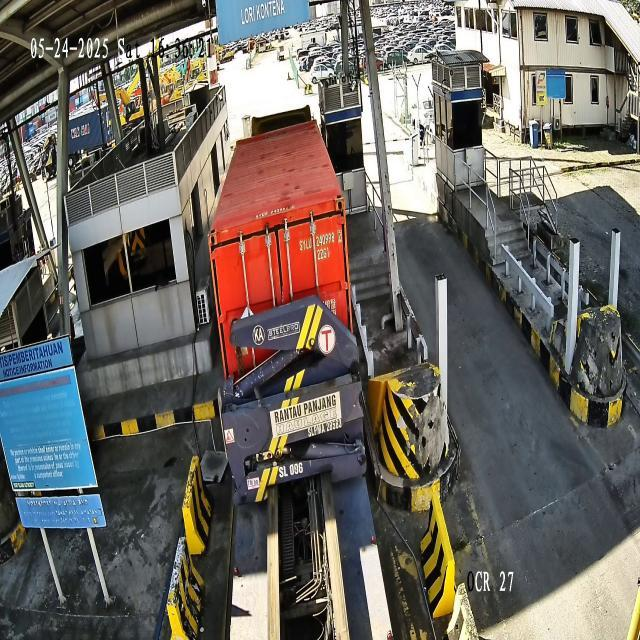ISO: (316, 246, 329, 261)
container_number: (299, 229, 342, 252)
